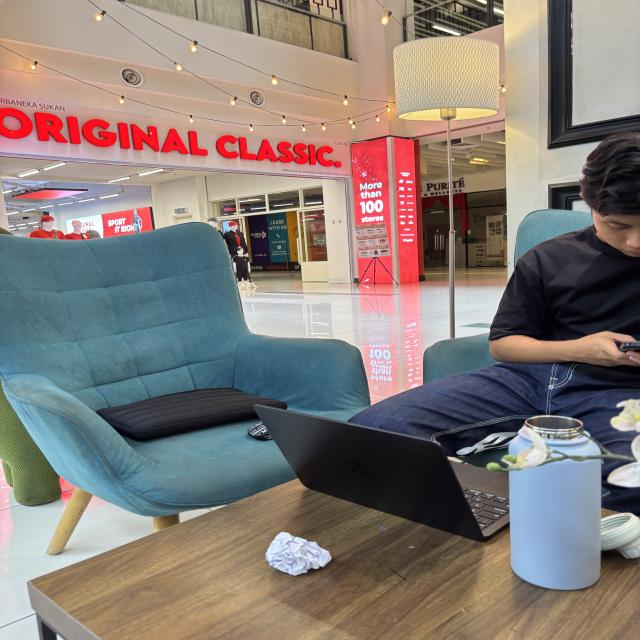crumpled_paper: (266, 526, 334, 576)
